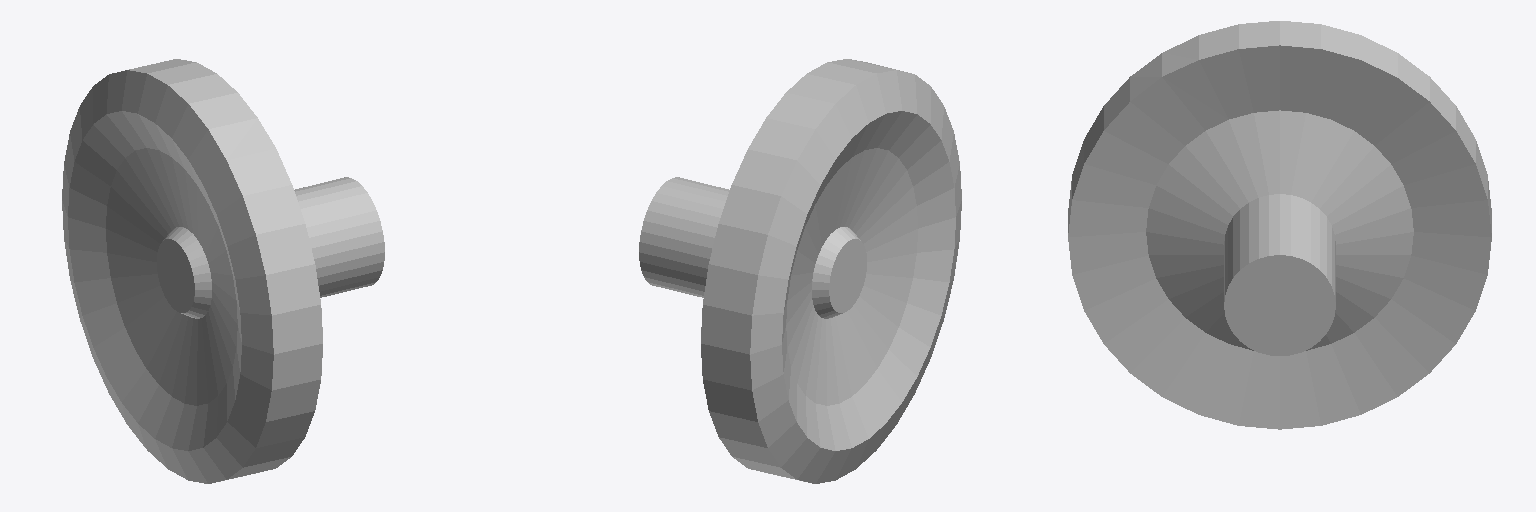
Rendered from right_wheel.obj.
The picture shows the model from 3 angles: view 1: azimuth 30°, elevation 25°; view 2: azimuth 150°, elevation 25°; view 3: azimuth 270°, elevation 25°; orthographic projection.
Size of the model in its own units: 0.5242 by 0.9543 by 0.9523.